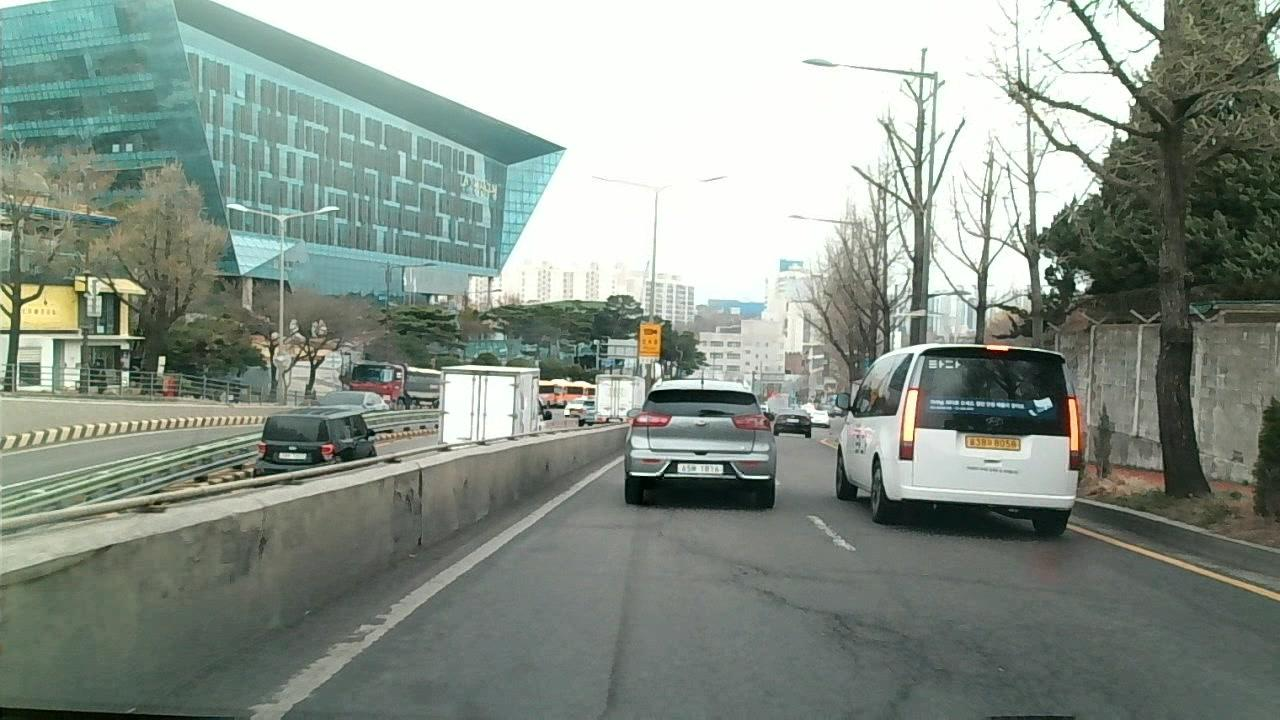vcrack: (818, 601, 945, 720), (722, 561, 807, 608)
